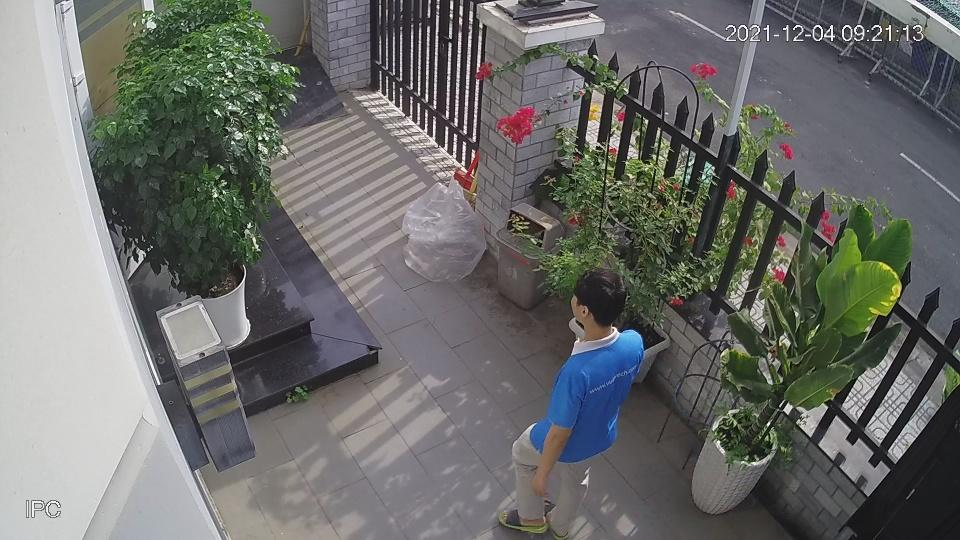person: (496, 264, 644, 540)
